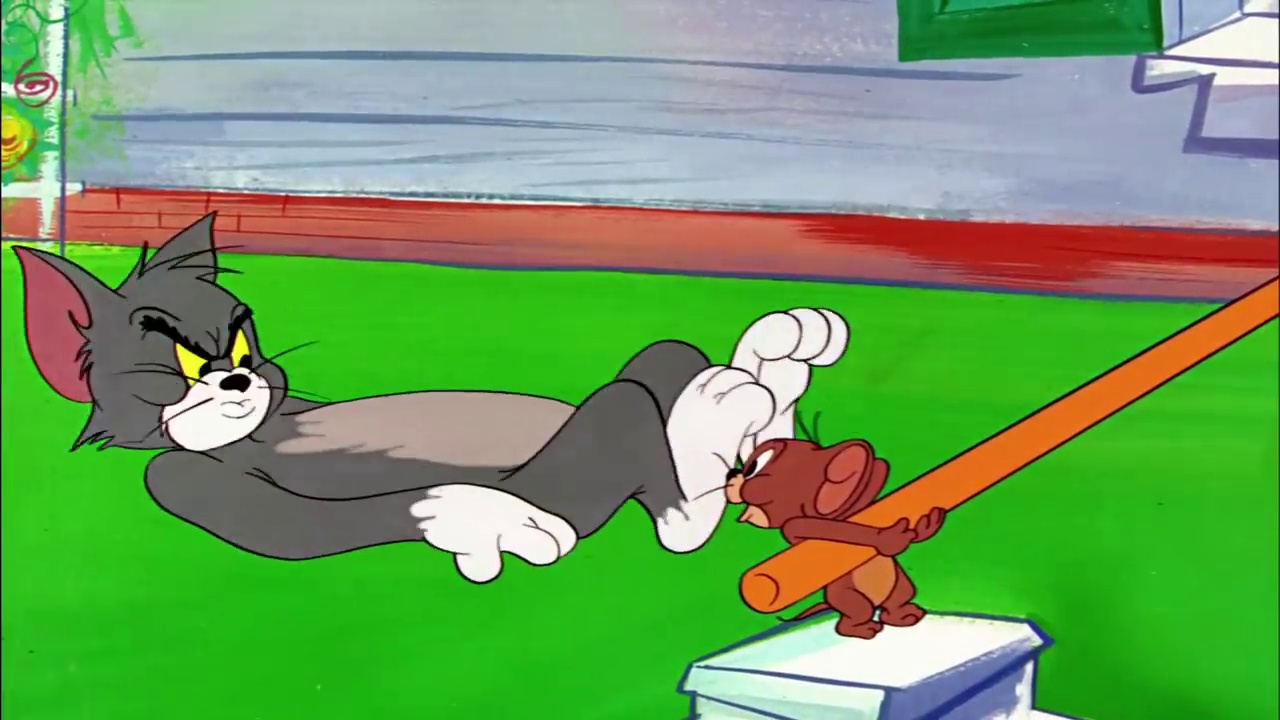tom: (7, 203, 301, 461)
